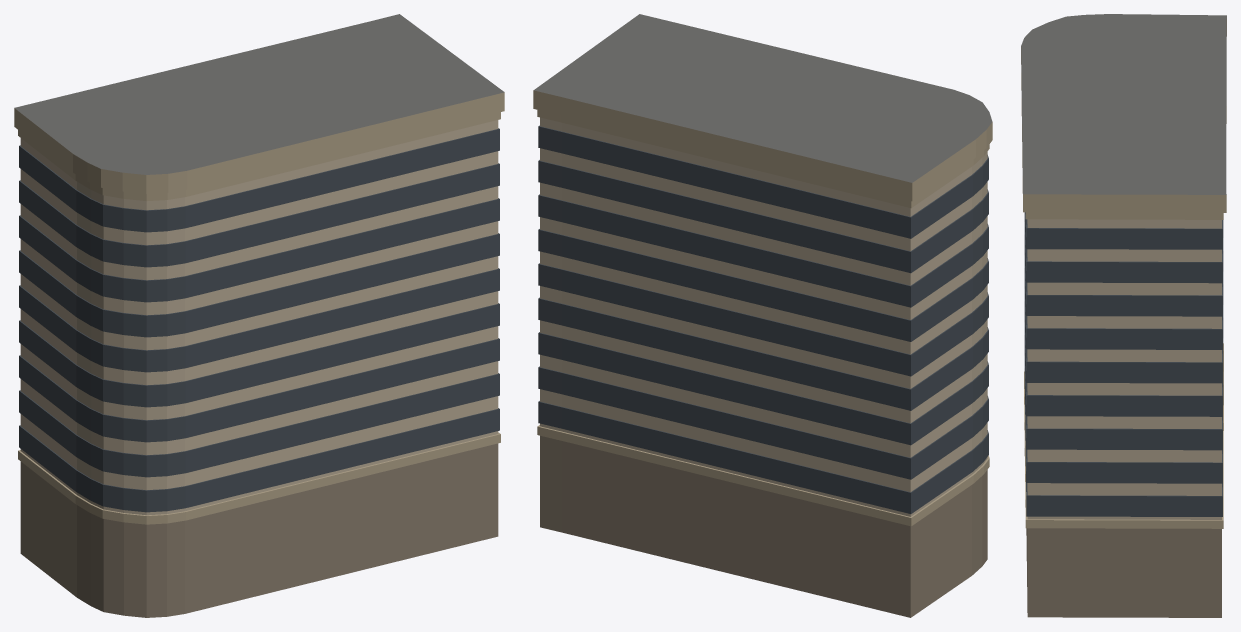
File: boston_building.glb
The picture shows the model from 3 angles, left to right: view 1: azimuth 30°, elevation 25°; view 2: azimuth 150°, elevation 25°; view 3: azimuth 270°, elevation 25°; orthographic projection. The views are drawn at different scales.
Visible parts, largest first — view 1: Boston_Building; view 2: Boston_Building; view 3: Boston_Building.
Boxes of the visible parts, bbox=[...] form: Boston_Building: bbox=[14, 14, 504, 617]; Boston_Building: bbox=[533, 14, 992, 617]; Boston_Building: bbox=[1021, 14, 1226, 617].
Size of the model in its own units: 47.48 by 52 by 22.81.
